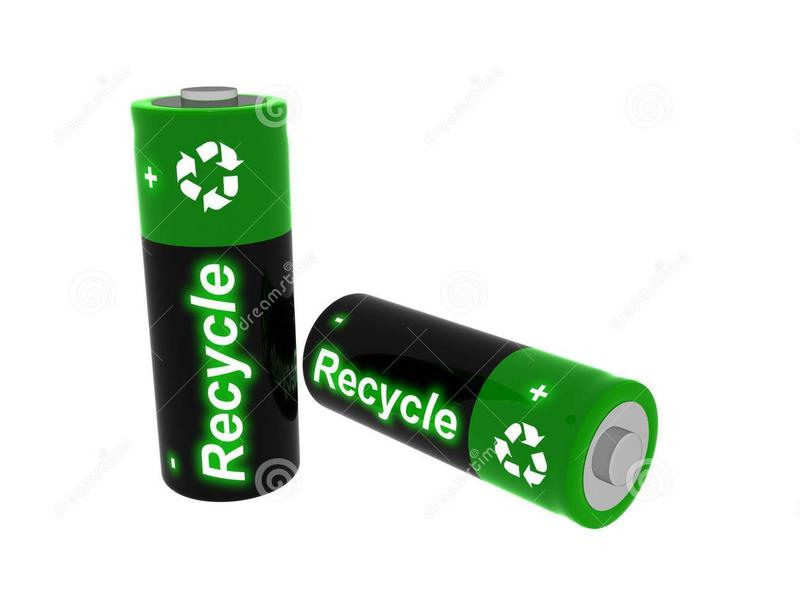battery: (301, 288, 682, 532), (125, 82, 316, 504)
